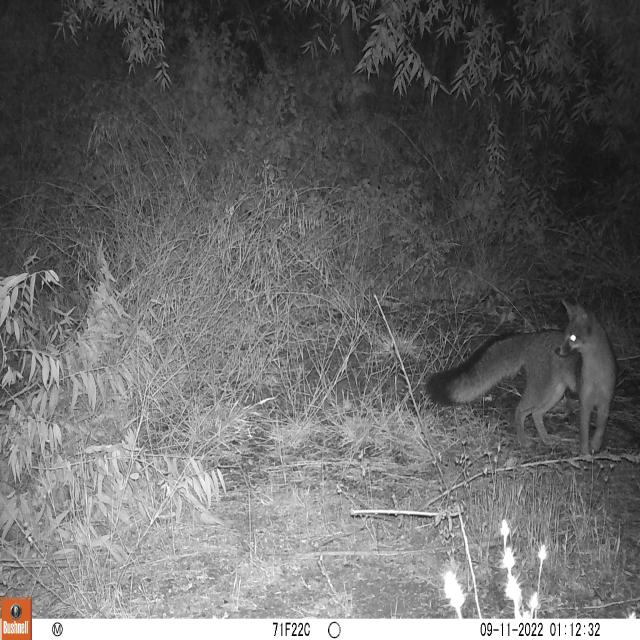Fox: (424, 298, 622, 460)
